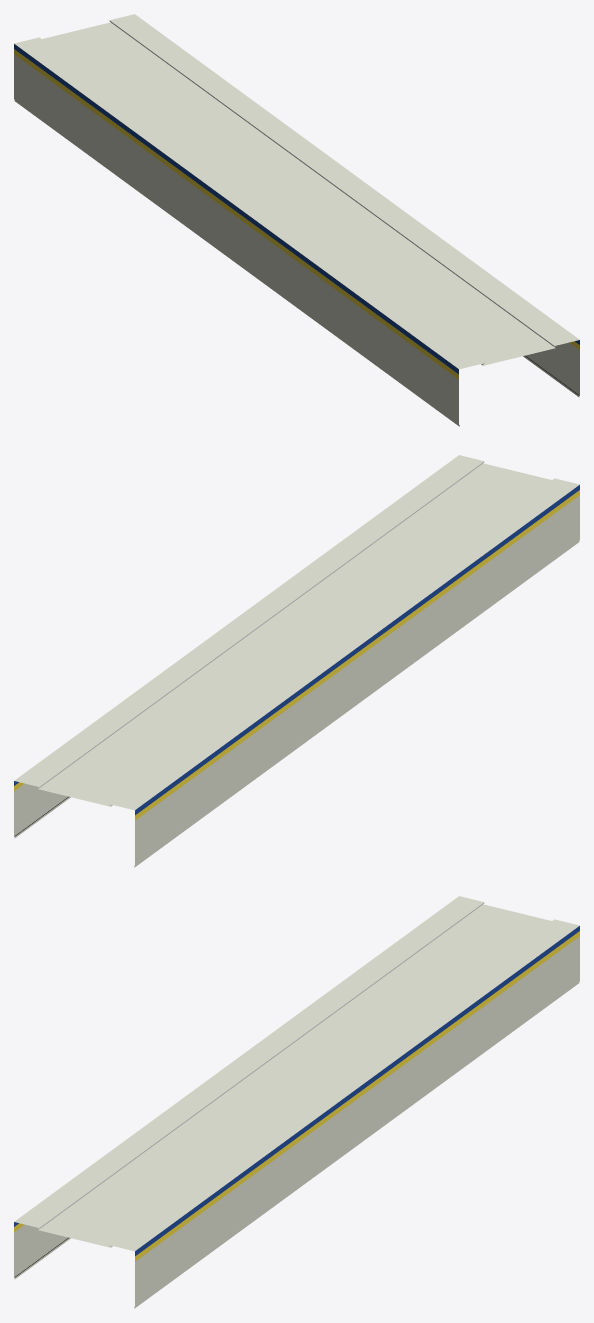
The model's file is Museum_ceiling_Wall .fbx.
3 views of the same model, one above another, from view 1: azimuth 30°, elevation 25°; view 2: azimuth 150°, elevation 25°; view 3: azimuth 330°, elevation 25° (orthographic).
Parts seen in each view (by area): view 1: Museum_Ceiling_walls; view 2: Museum_Ceiling_walls; view 3: Museum_Ceiling_walls.
Part boxes in pixels (bbox=[...]): Museum_Ceiling_walls: bbox=[14, 14, 579, 426]; Museum_Ceiling_walls: bbox=[14, 455, 579, 867]; Museum_Ceiling_walls: bbox=[14, 896, 579, 1308].
Size of the model in its own units: 1000 by 456 by 6380.
4 materials, 2 textured.
